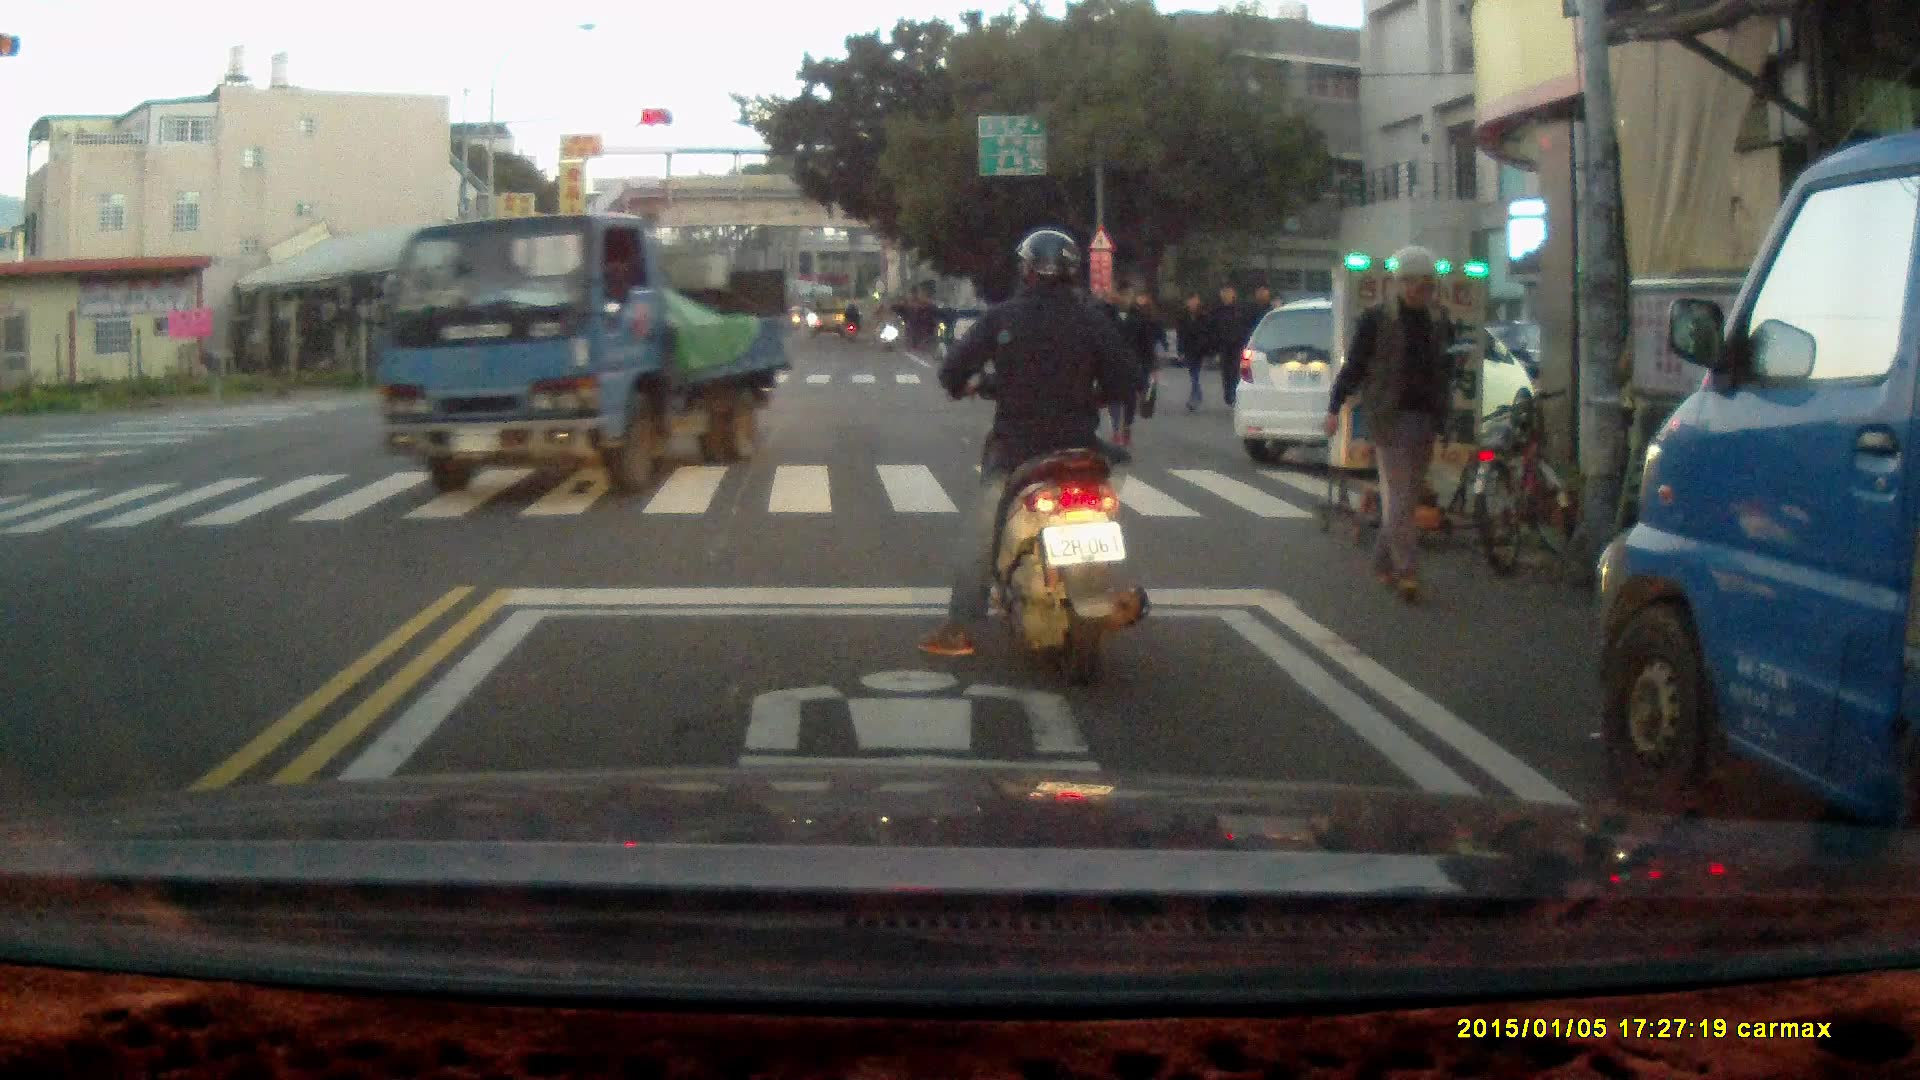pedestrian: (1326, 241, 1471, 602), (1092, 276, 1159, 452), (1206, 283, 1247, 411), (1171, 286, 1211, 418)
rider: (917, 229, 1150, 692), (870, 299, 900, 356)
vehicle: (1596, 120, 1920, 901), (379, 212, 793, 504), (1236, 303, 1533, 462)
